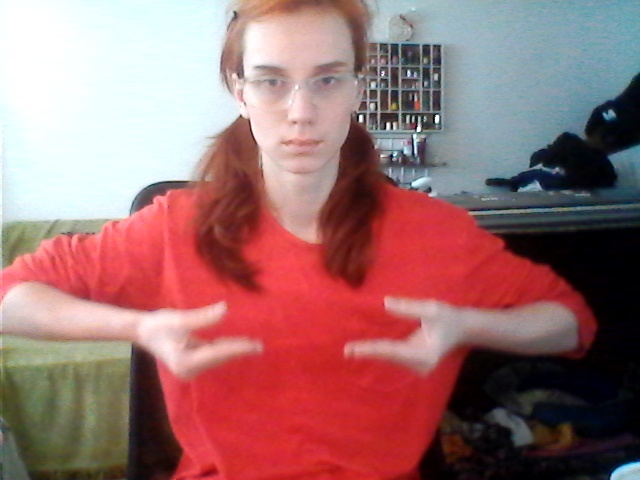drzat: (153, 286, 457, 386)
